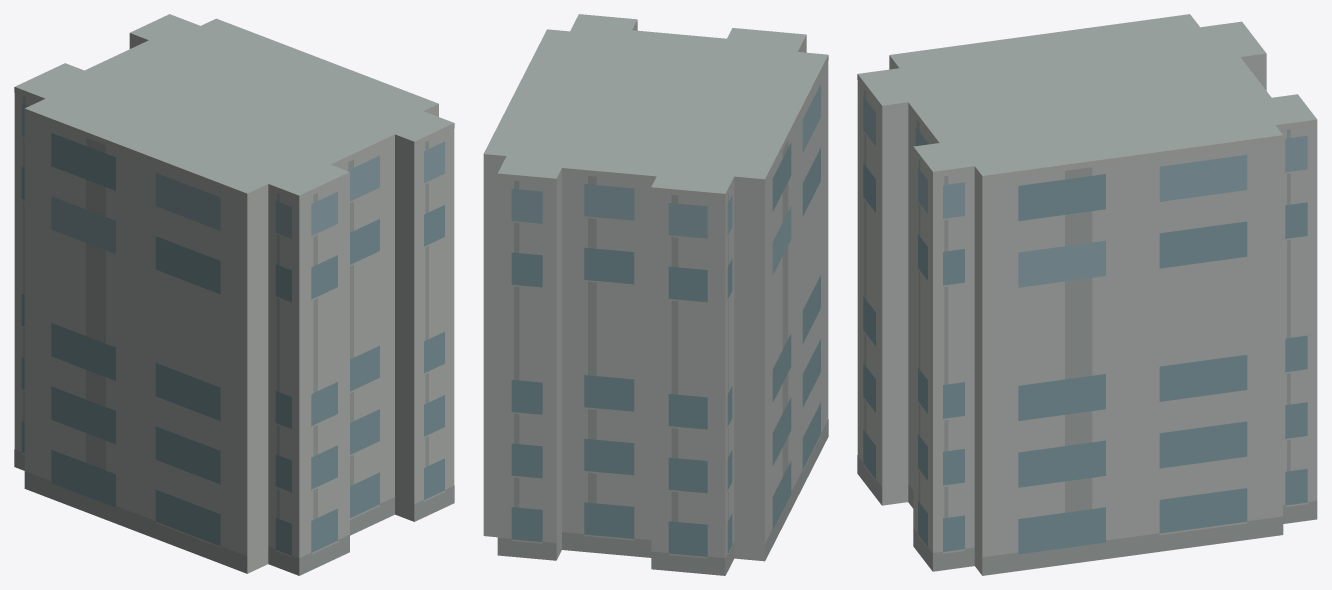
Rendered from survey-upis-32620273.glb.
3 views of the same model, side by side, from view 1: azimuth 30°, elevation 25°; view 2: azimuth 150°, elevation 25°; view 3: azimuth 270°, elevation 25° (orthographic). The views are drawn at different scales.
Visible parts, largest first — view 1: survey-upis-32620273.tmp; view 2: survey-upis-32620273.tmp; view 3: survey-upis-32620273.tmp.
Boxes of the visible parts, x1,y1,x2,y2 form: survey-upis-32620273.tmp: (14,14,454,575); survey-upis-32620273.tmp: (483,14,828,575); survey-upis-32620273.tmp: (857,14,1317,575).
Size of the model in its own units: 14 by 16.1 by 16.79.
